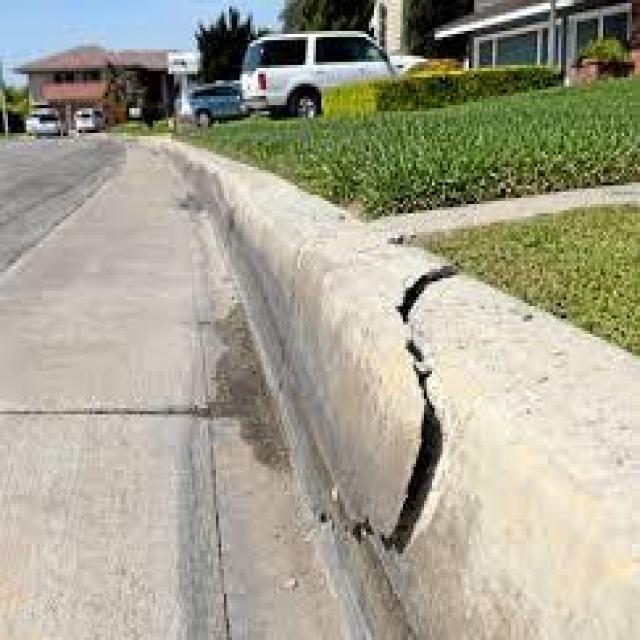curb: (214, 160, 499, 498), (370, 351, 633, 640), (138, 130, 238, 206)
